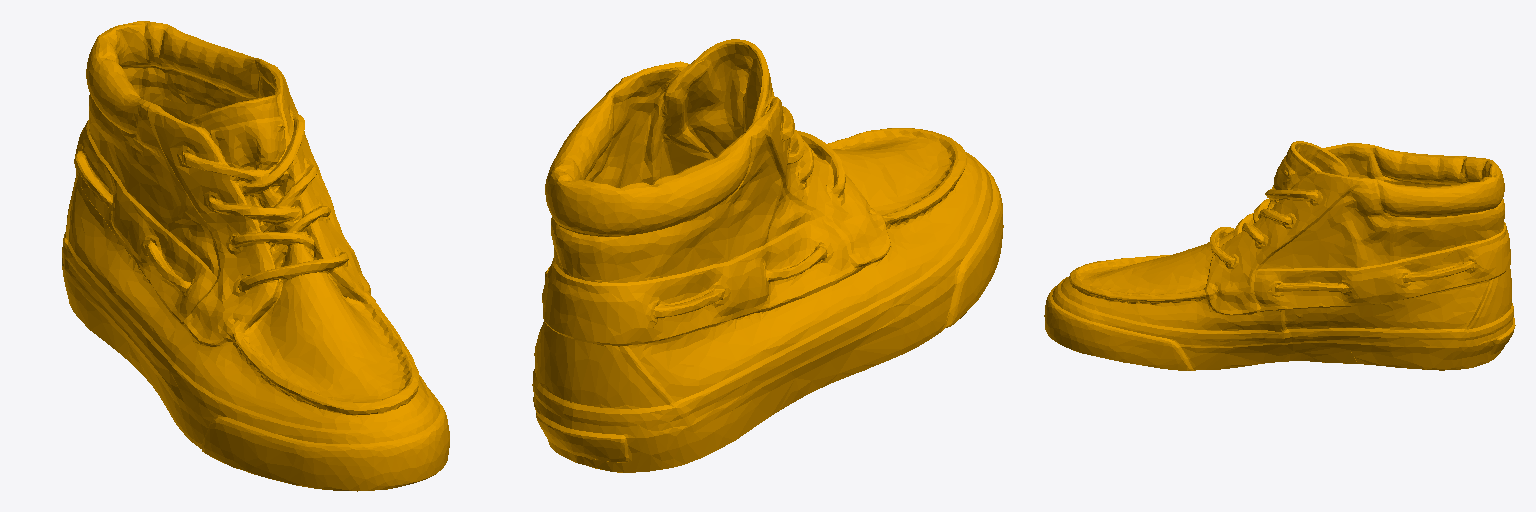
robot.urdf — 33o1zhw3:
<?xml version='1.0'?>

<robot name="33o1zhw3">
    <static>false</static>
    <link name="link">
        <inertial>
            <mass value="0.1459454856158749"/>
            <inertia ixx="0.00017862223785194438" ixy="-6.5614338887327145e-06" ixz="-3.872988386955791e-06"
                     iyy="4.234947365570282e-05" iyz="-1.4140776643307166e-05" izz="0.00017096173676885346"/>
        </inertial>
        <collision name="collision">
            <geometry>
                <mesh filename="package://miscnet/train/33o1zhw3/collision_model_vhacd.obj"/>
            </geometry>
        </collision>
        <visual name="visual">
            <geometry>
                <mesh filename="package://miscnet/train/33o1zhw3/visual_model.obj"/>
            </geometry>
        </visual>
    </link>
</robot>

--- Render facts (derived) ---
Views: 3 orthographic renders of the robot side by side, from view 1: azimuth 30°, elevation 25°; view 2: azimuth 150°, elevation 25°; view 3: azimuth 270°, elevation 25°.
Model 33o1zhw3 with 1 links and 0 joints (none), rooted at link, posed all joints at 0.
Links seen in each view (by area): view 1: link; view 2: link; view 3: link.
Link boxes in pixels (box(x1,y1,x2,y2)): link: box(62, 21, 449, 491); link: box(532, 39, 1003, 472); link: box(1044, 141, 1515, 370).
Bounding box of the posed robot: 0.0477 × 0.1298 × 0.062 m (x, y, z).
1 mesh visuals loaded from 1 distinct referenced files (1 OBJ).
